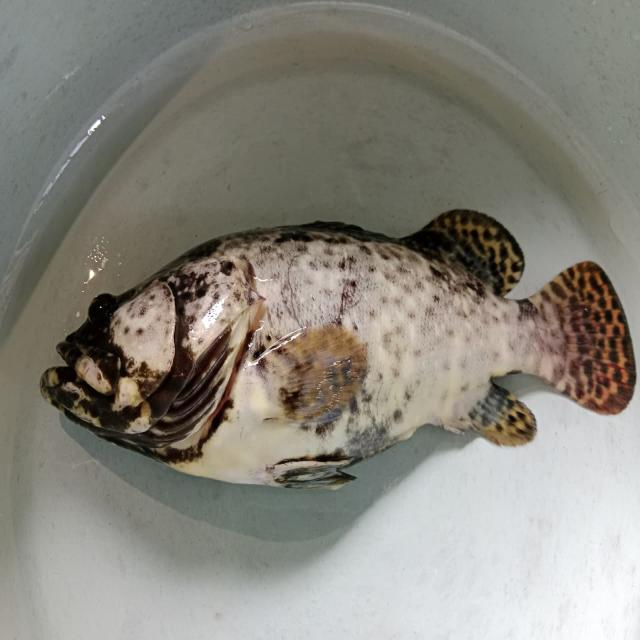ikan: (28, 196, 615, 479)
